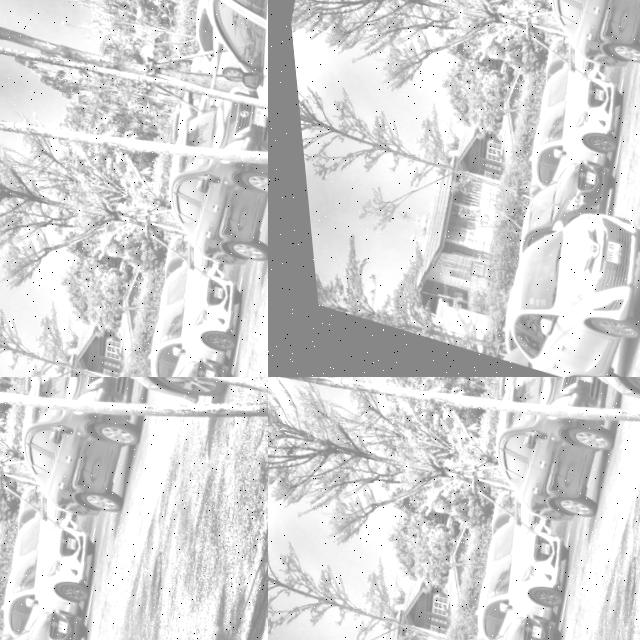license-plate: (0, 0, 198, 173), (529, 539, 545, 554), (518, 623, 534, 637)
